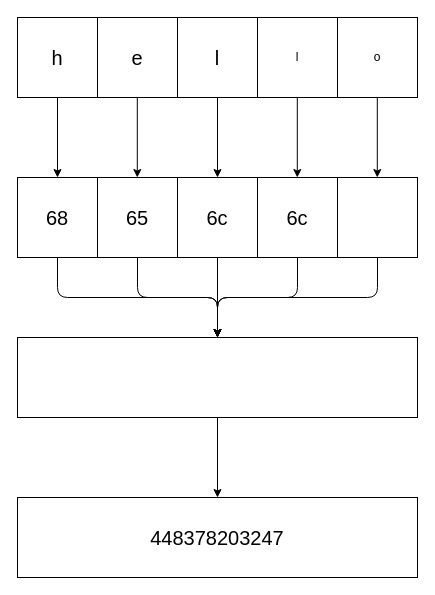
This 435x595 diagram has some shape labels left out. Each missing label, with the centre of its shape:
"0x68656c6c6f" goes at pixel 217 377.
"6f" goes at pixel 377 217.
